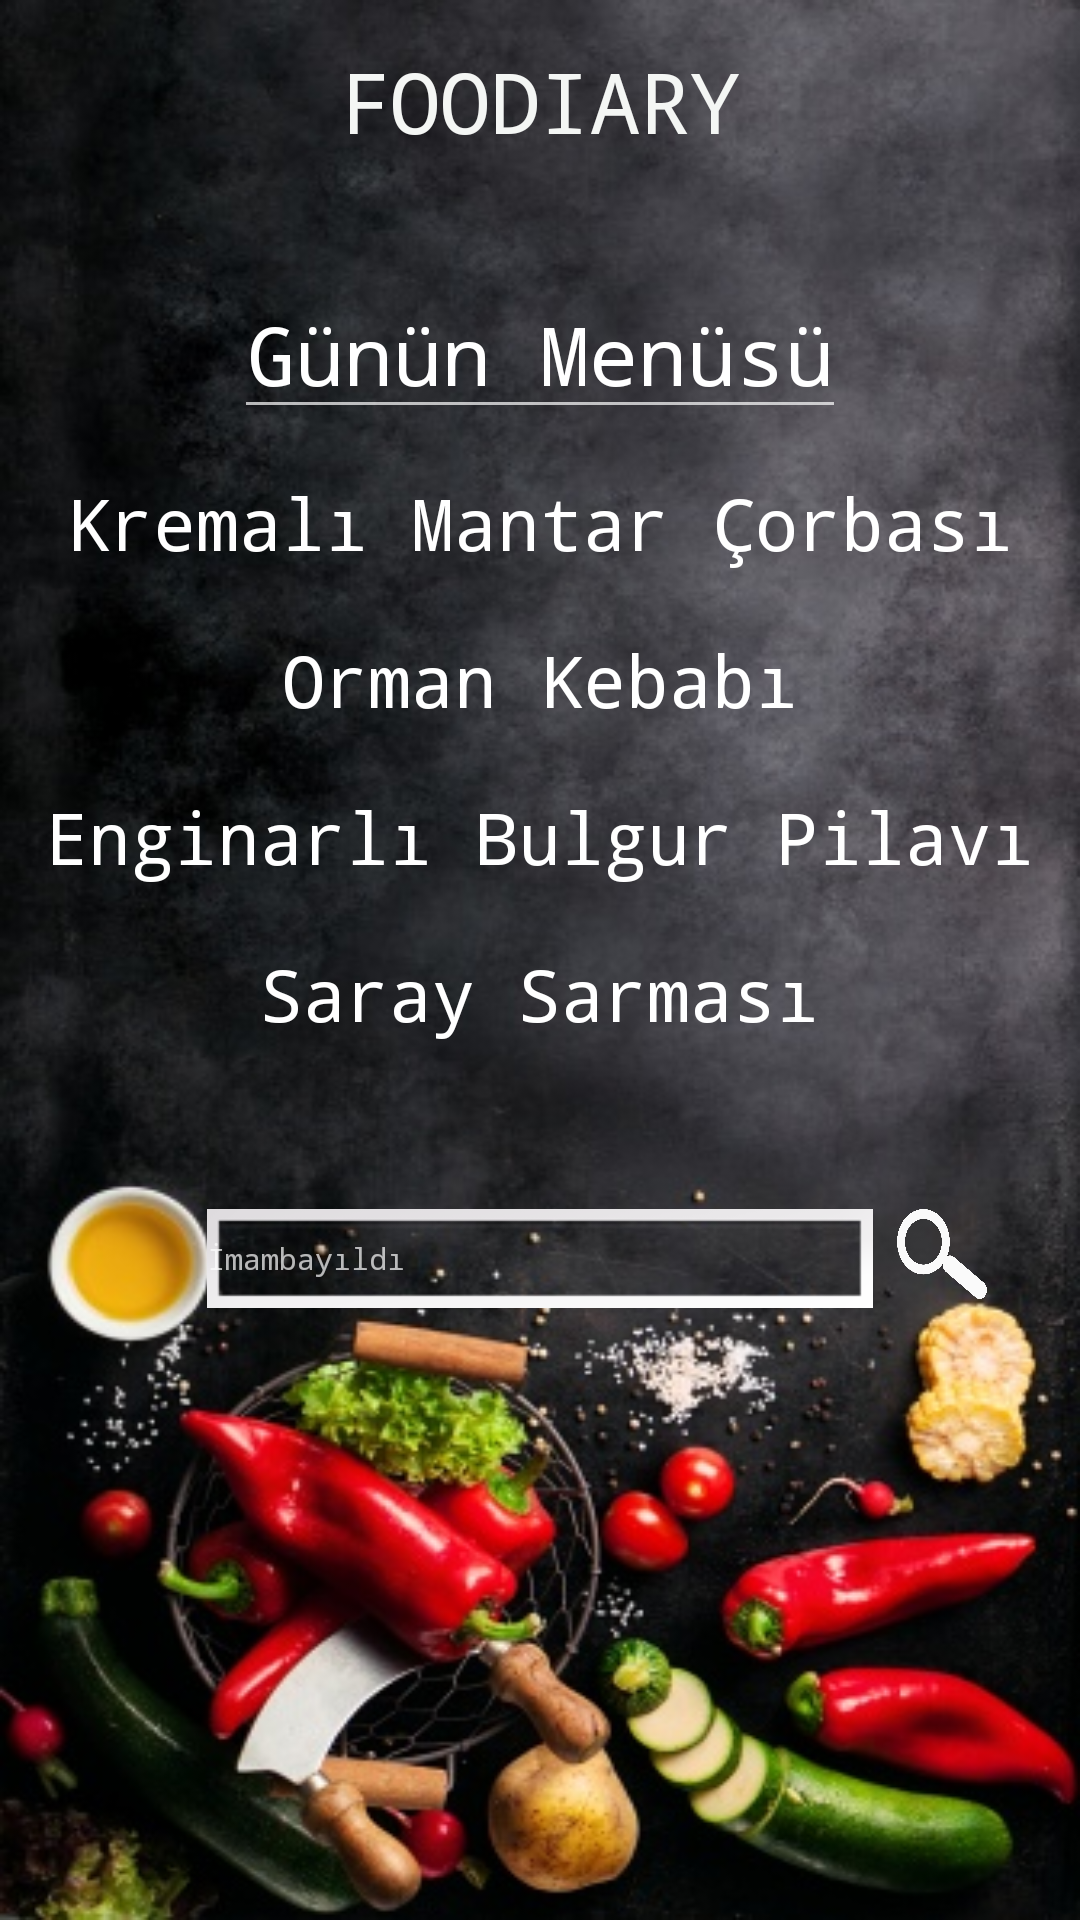

Named icons in this screenshot (1080*1920) and their bounding boxes, rect(x1, y1, x2, y2):
search: rect(897, 1209, 987, 1299)
